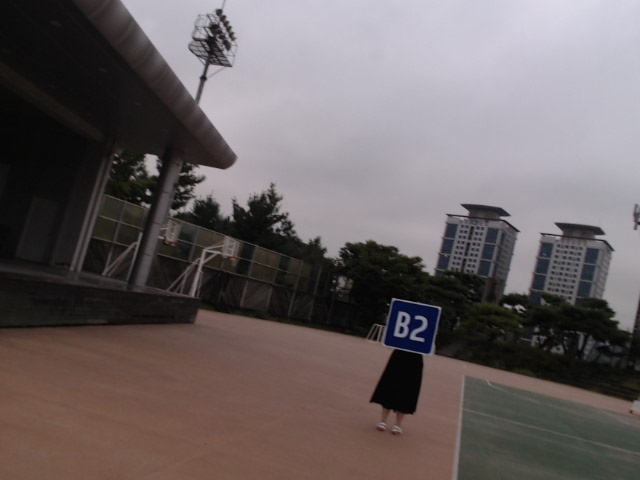delivery_b2: (383, 299, 443, 355)
